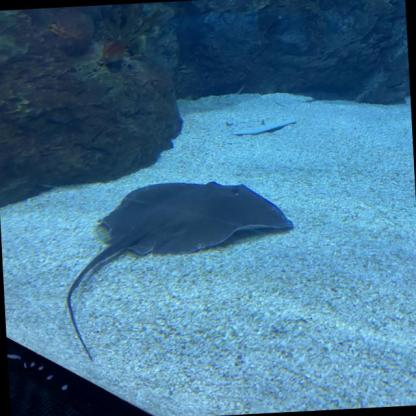stingray: (96, 178, 295, 258)
